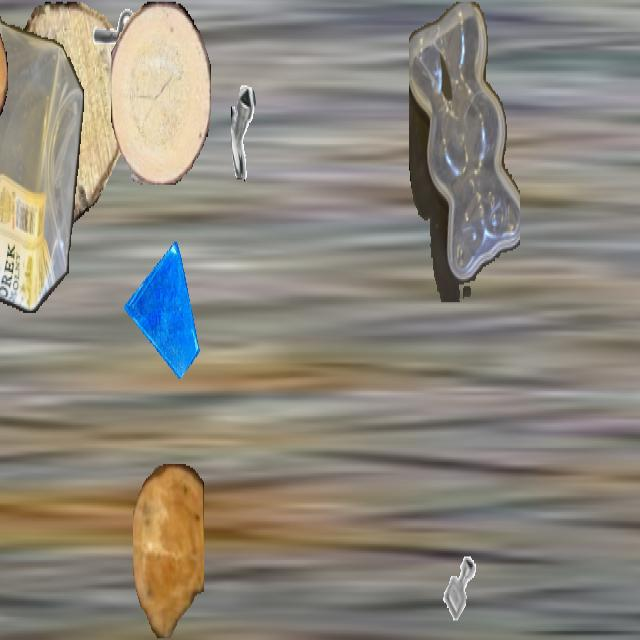glass: (124, 242, 200, 377)
metal: (78, 2, 140, 112), (231, 82, 287, 181), (435, 542, 485, 631)
plastic: (409, 2, 519, 300), (0, 2, 84, 311)
wood: (0, 2, 128, 226), (111, 2, 211, 183), (133, 464, 203, 638), (0, 1, 8, 154)
